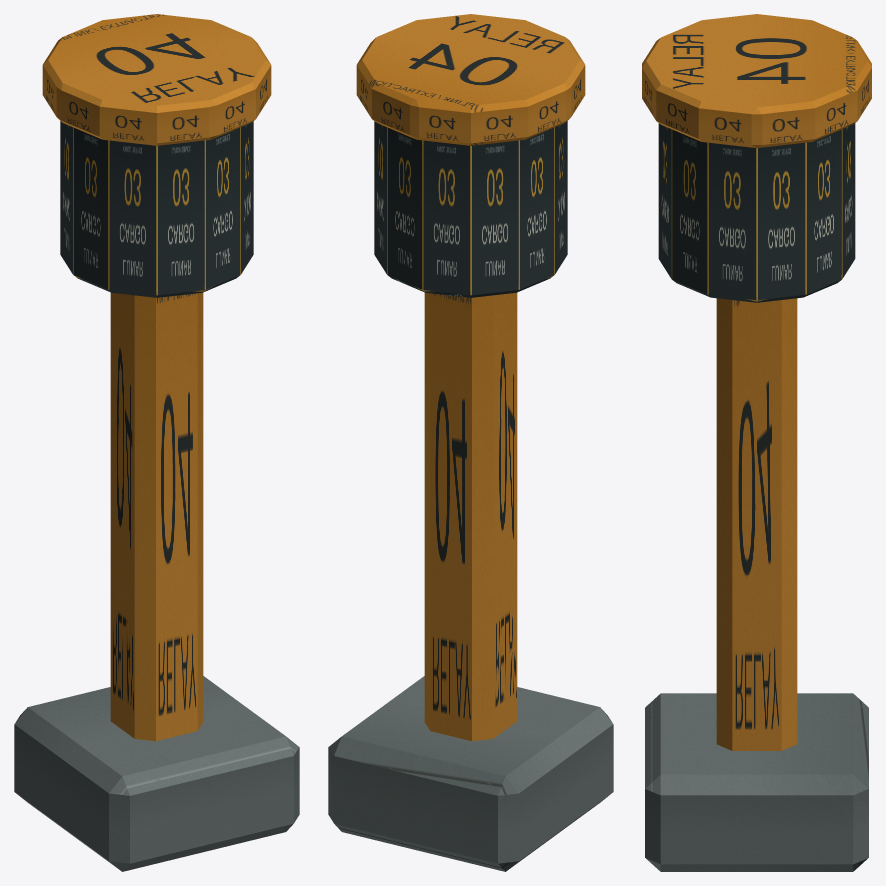
Rendered from beacon_LOD1.obj.
3 renders of one model, left to right at view 1: azimuth 30°, elevation 25°; view 2: azimuth 150°, elevation 25°; view 3: azimuth 270°, elevation 25°, orthographic.
Visible parts, largest first — view 1: L02_beacon_LOD1; view 2: L02_beacon_LOD1; view 3: L02_beacon_LOD1.
Part boxes in pixels (x1,y1,x2,y2): L02_beacon_LOD1: (14, 14, 299, 871); L02_beacon_LOD1: (328, 14, 613, 871); L02_beacon_LOD1: (642, 14, 871, 871).
Bounding box in the file's own units: 0.5138 × 1.9 × 0.5138.
1 material, 1 textured.
